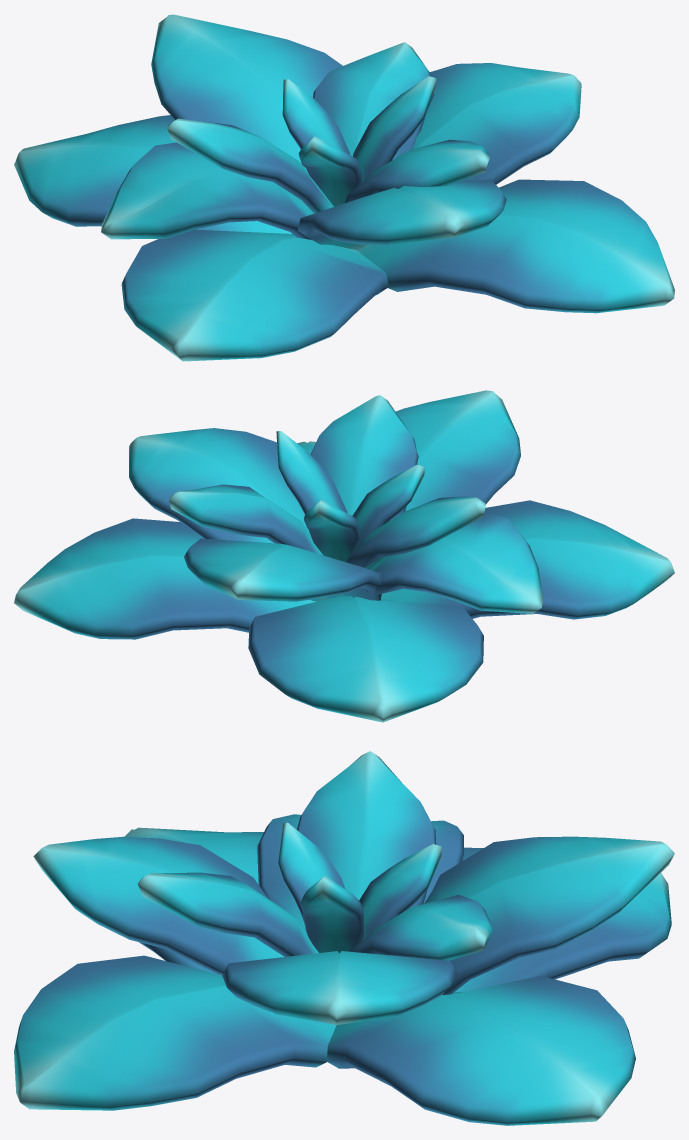
Rendered from Plants_025.fbx.
3 renders of one model, top to bottom at view 1: azimuth 30°, elevation 25°; view 2: azimuth 150°, elevation 25°; view 3: azimuth 270°, elevation 25°, orthographic. The views are drawn at different scales.
Visible parts, largest first — view 1: Plants.025; view 2: Plants.025; view 3: Plants.025.
Part boxes in pixels (<box>): Plants.025: <box>14,14,674,361</box>; Plants.025: <box>14,390,674,722</box>; Plants.025: <box>14,751,674,1125</box>.
Bounding box in the file's own units: 881 × 287 × 879.
